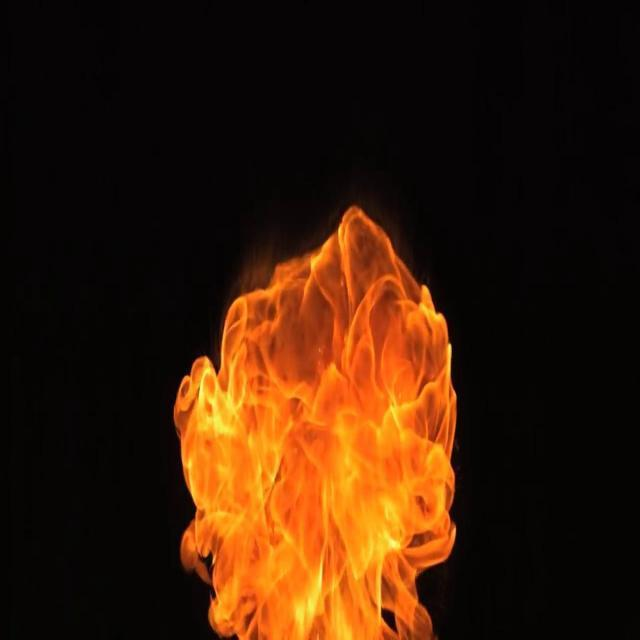Fire: (171, 181, 497, 640)
